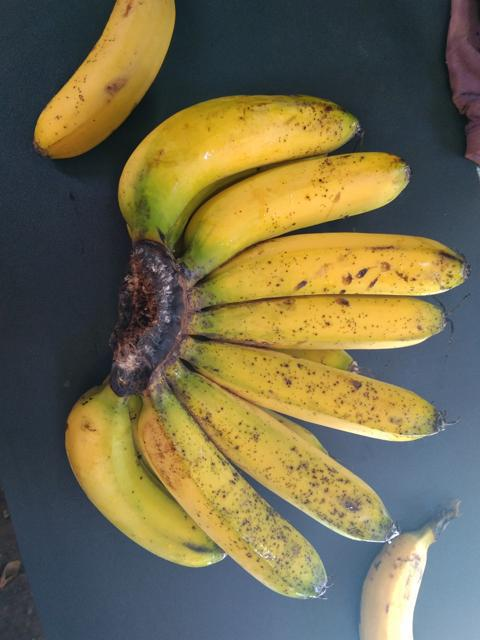ripe: (140, 393, 361, 590), (108, 83, 353, 241), (198, 342, 389, 535), (200, 318, 461, 454), (70, 381, 226, 587), (170, 226, 468, 307), (190, 147, 405, 246), (170, 283, 449, 358), (36, 0, 134, 184), (347, 516, 437, 639)
